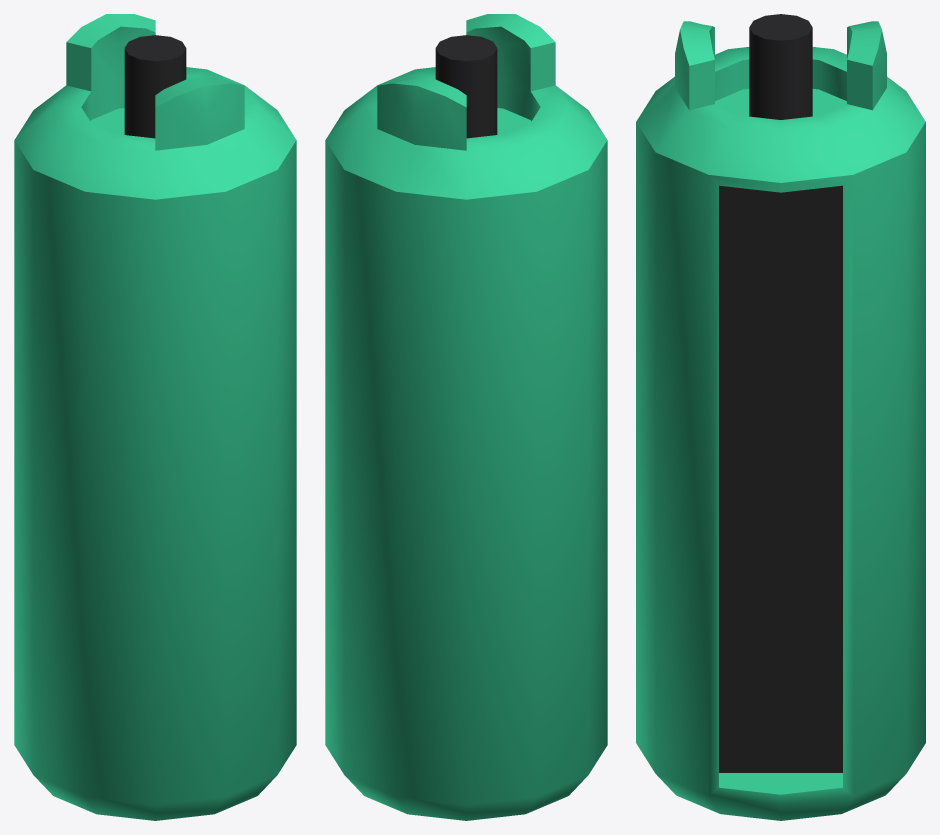
The model's file is Tank.fbx.
3 views of the same model, side by side, from view 1: azimuth 30°, elevation 25°; view 2: azimuth 150°, elevation 25°; view 3: azimuth 270°, elevation 25° (orthographic). The views are drawn at different scales.
Parts seen in each view (by area): view 1: Tank; view 2: Tank; view 3: Tank.
Boxes of the visible parts, x1,y1,x2,y2 form: Tank: [14, 14, 296, 820]; Tank: [325, 14, 607, 820]; Tank: [636, 14, 925, 820].
Size of the model in its own units: 139 by 392 by 139.
